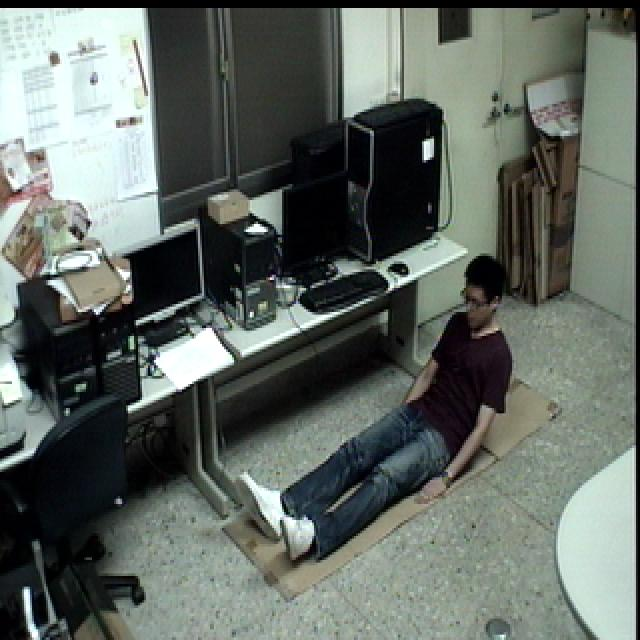sit: (234, 255, 519, 572)
